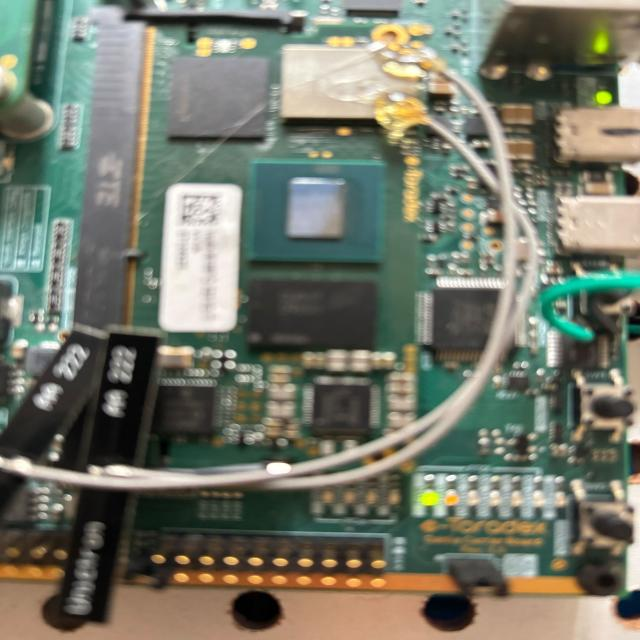som: (91, 19, 415, 477)
